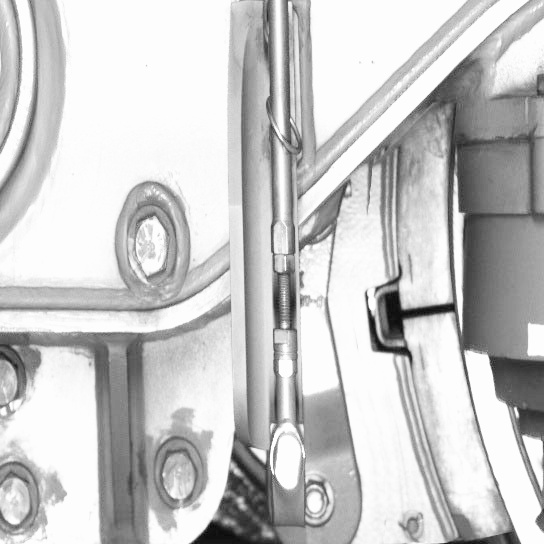ClosedKnifeSwitch: (400, 137, 522, 540)
